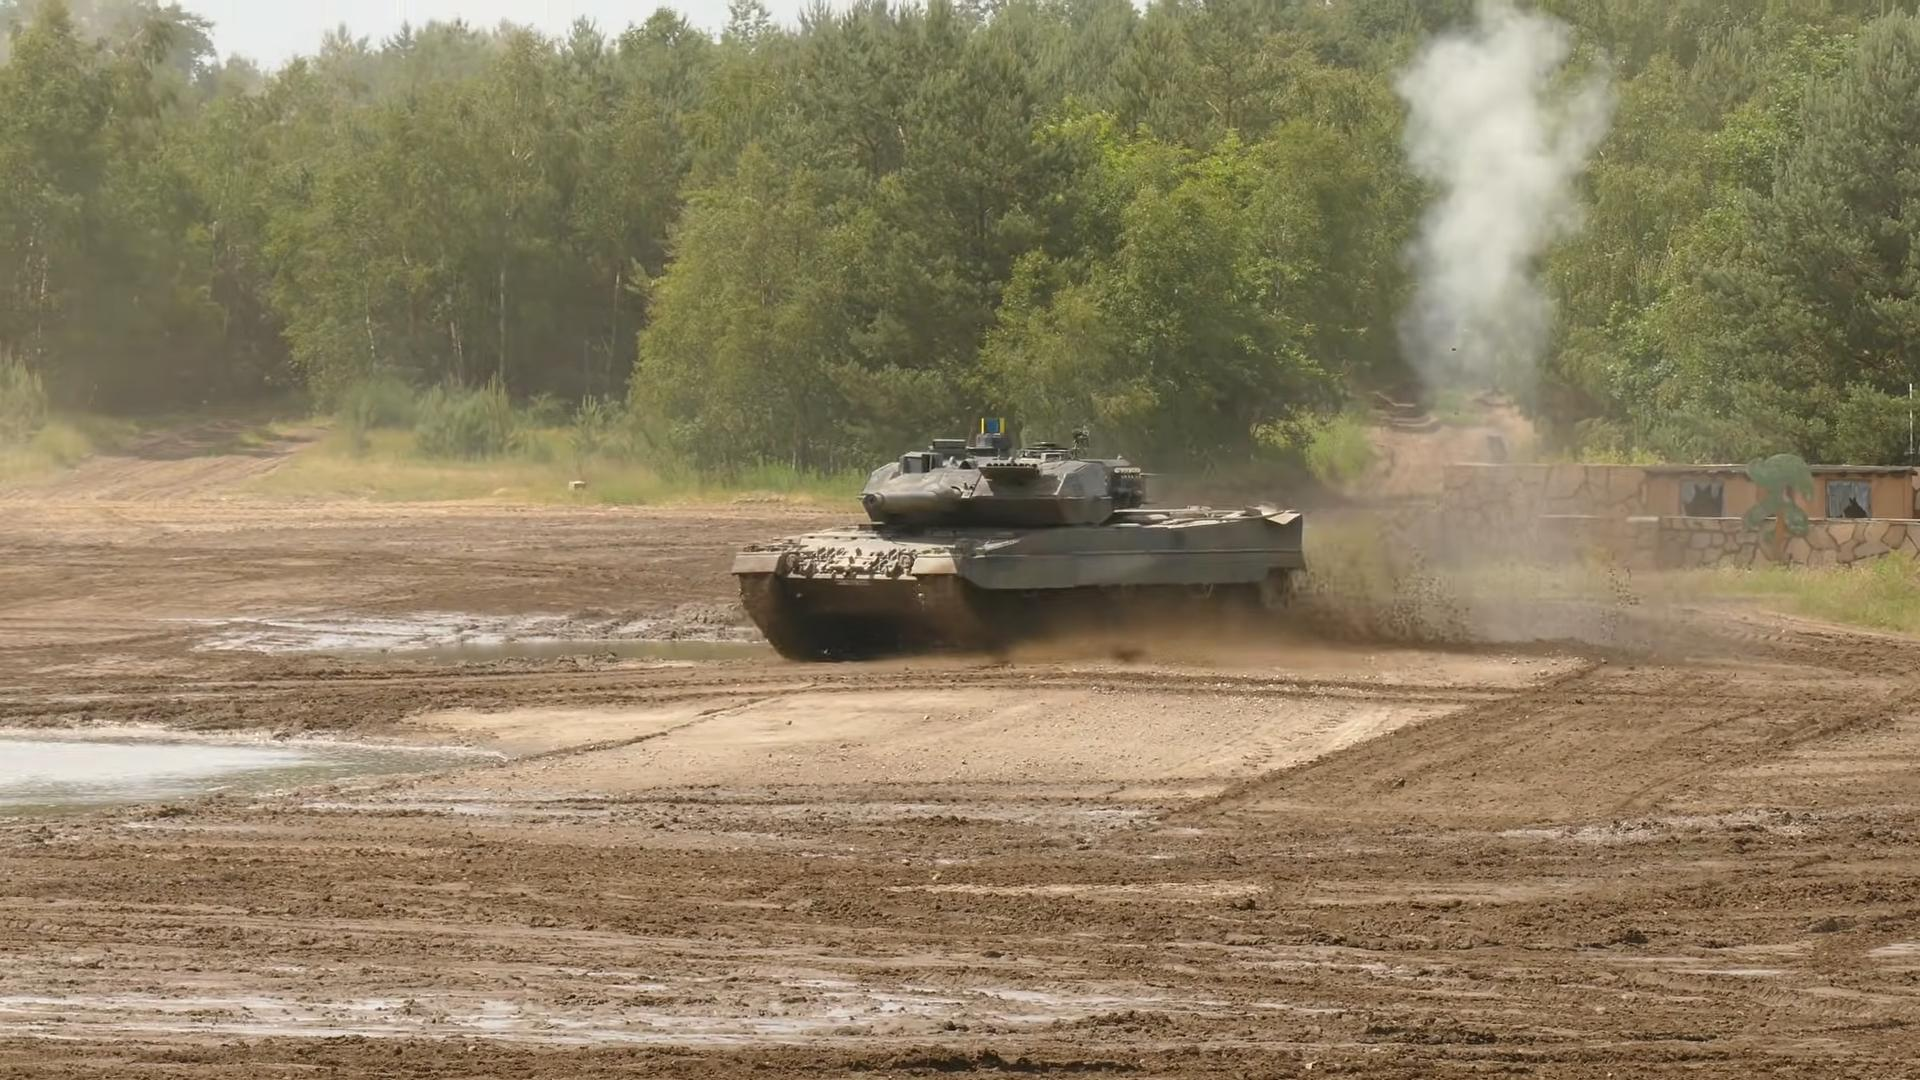tank: (728, 417, 1307, 657)
